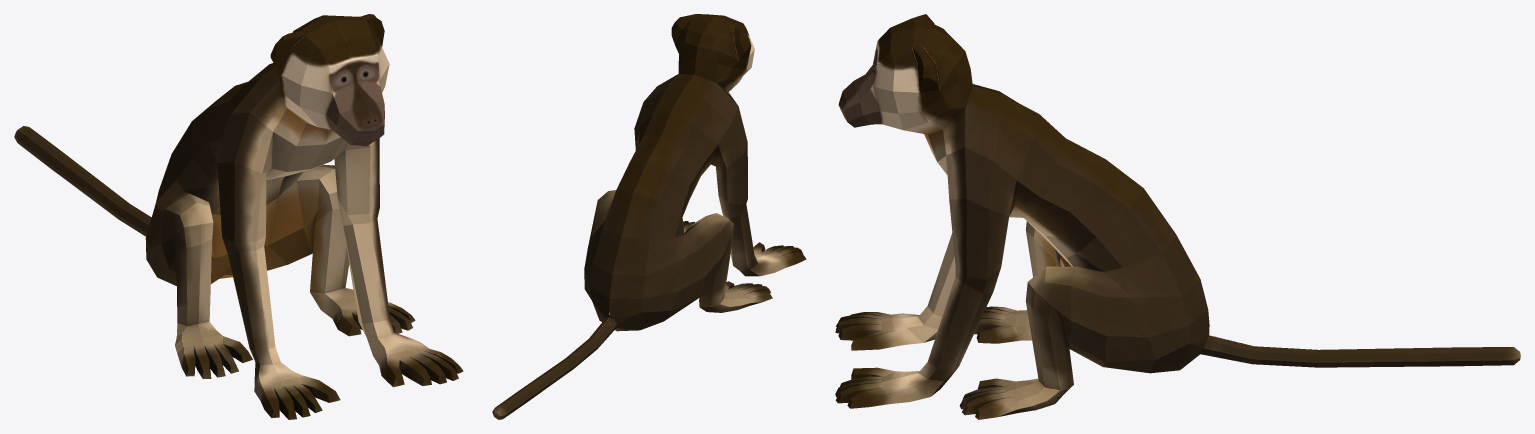
The model's file is macaco2.glb.
The picture shows the model from 3 angles, left to right: view 1: azimuth 30°, elevation 25°; view 2: azimuth 150°, elevation 25°; view 3: azimuth 270°, elevation 25°; orthographic projection. The views are drawn at different scales.
Visible parts, largest first — view 1: Monkey_mesh; view 2: Monkey_mesh; view 3: Monkey_mesh.
Boxes of the visible parts, bbox=[...] form: Monkey_mesh: bbox=[14, 14, 463, 419]; Monkey_mesh: bbox=[492, 14, 806, 419]; Monkey_mesh: bbox=[835, 14, 1520, 419].
Size of the model in its own units: 3.06 by 4.49 by 8.2.
1 material, 1 textured.
